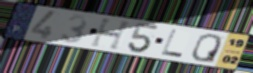3: (60, 13, 91, 44)
4: (28, 9, 58, 42)
5: (126, 21, 161, 54)
H: (89, 18, 135, 52)
L: (159, 28, 185, 59)
Q: (190, 33, 223, 64)
